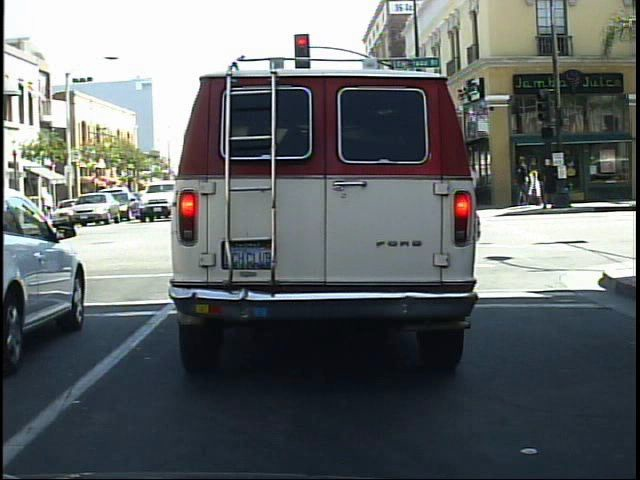person: (536, 154, 563, 215), (516, 157, 541, 214), (514, 149, 535, 211), (527, 159, 547, 210)
